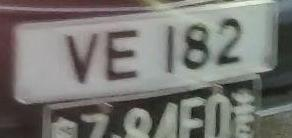1: (158, 16, 181, 85)
2: (212, 13, 248, 73)
8: (178, 17, 214, 78)
E: (100, 23, 141, 87)
V: (63, 29, 104, 89)
